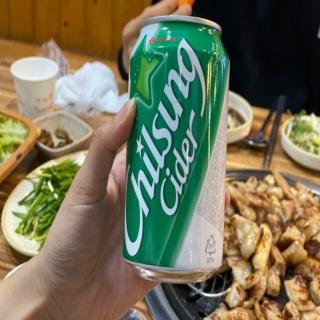cocacola: (120, 14, 232, 286)
